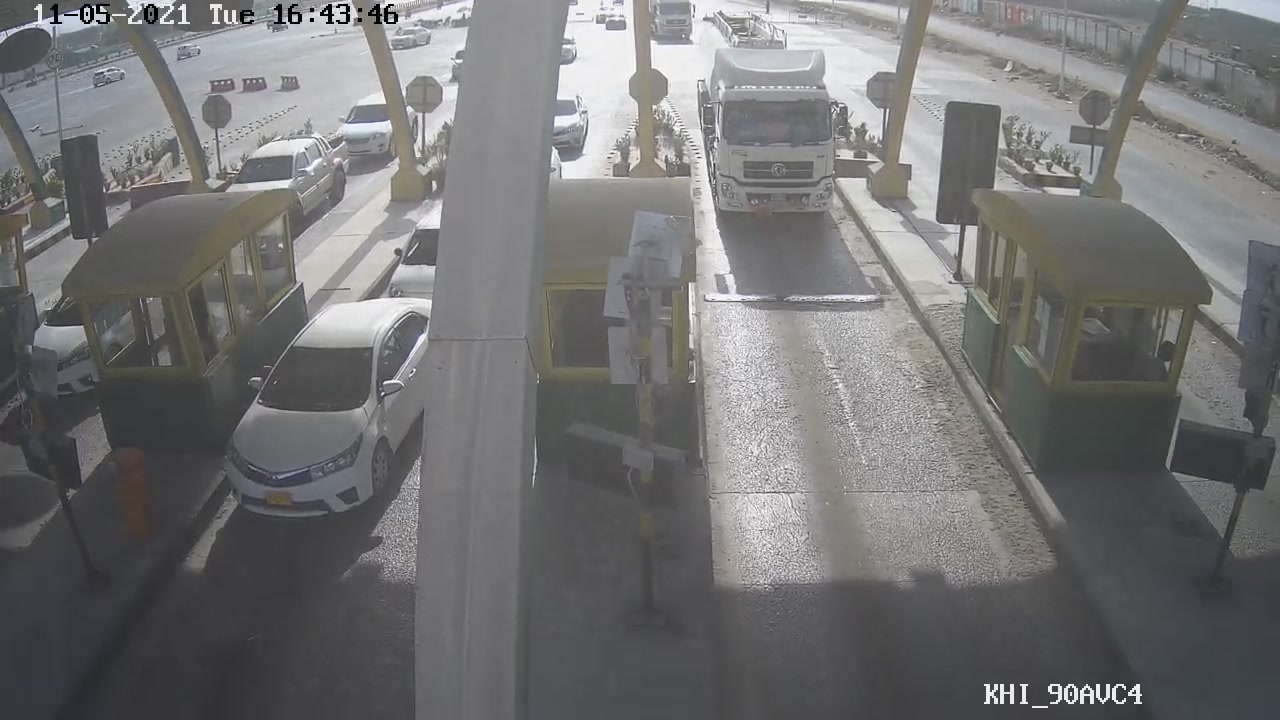F6: (695, 27, 857, 216)
